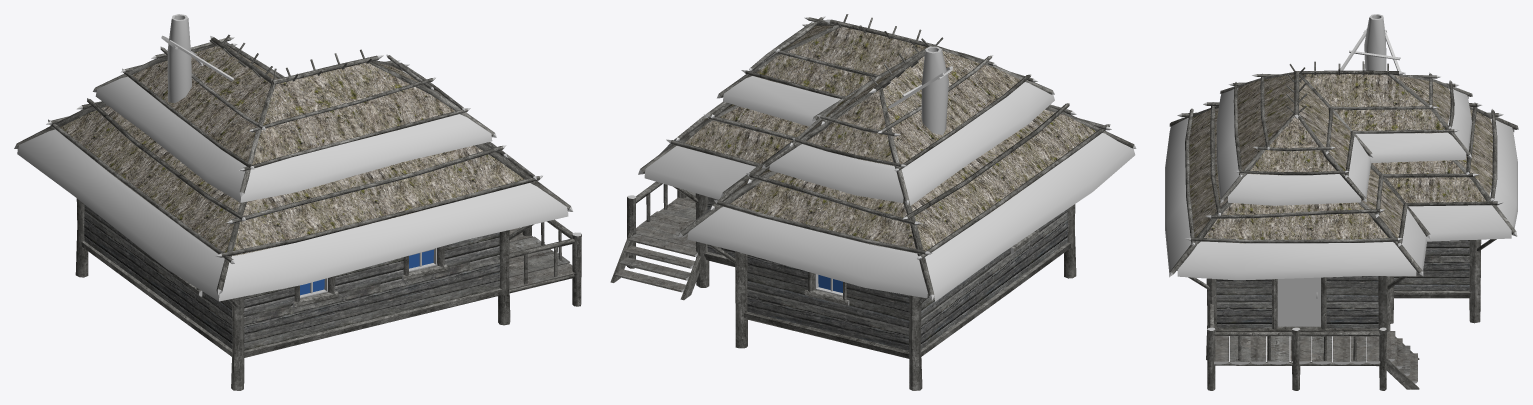
The model's file is mw_type_3_cottage_03.FBX.
3 views of the same model, side by side, from view 1: azimuth 30°, elevation 25°; view 2: azimuth 150°, elevation 25°; view 3: azimuth 270°, elevation 25° (orthographic). The views are drawn at different scales.
Visible parts, largest first — view 1: mw_type_3_cottage_03_roof, mw_type_3_cottage_03_wood, mw_type_3_cottage_03; view 2: mw_type_3_cottage_03_roof, mw_type_3_cottage_03_wood, mw_type_3_cottage_03; view 3: mw_type_3_cottage_03_roof, mw_type_3_cottage_03_wood, mw_type_3_cottage_03.
Part boxes in pixels (box(x1,y1,x2,y2)): mw_type_3_cottage_03_roof: box(17, 46, 568, 301); mw_type_3_cottage_03_wood: box(14, 34, 581, 390); mw_type_3_cottage_03: box(167, 14, 437, 298); mw_type_3_cottage_03_roof: box(644, 25, 1135, 301); mw_type_3_cottage_03_wood: box(610, 14, 1136, 390); mw_type_3_cottage_03: box(815, 46, 948, 296); mw_type_3_cottage_03_roof: box(1165, 74, 1517, 280); mw_type_3_cottage_03_wood: box(1169, 28, 1518, 390); mw_type_3_cottage_03: box(1277, 14, 1386, 326).
Size of the model in its own units: 1443 by 1020 by 1323.
